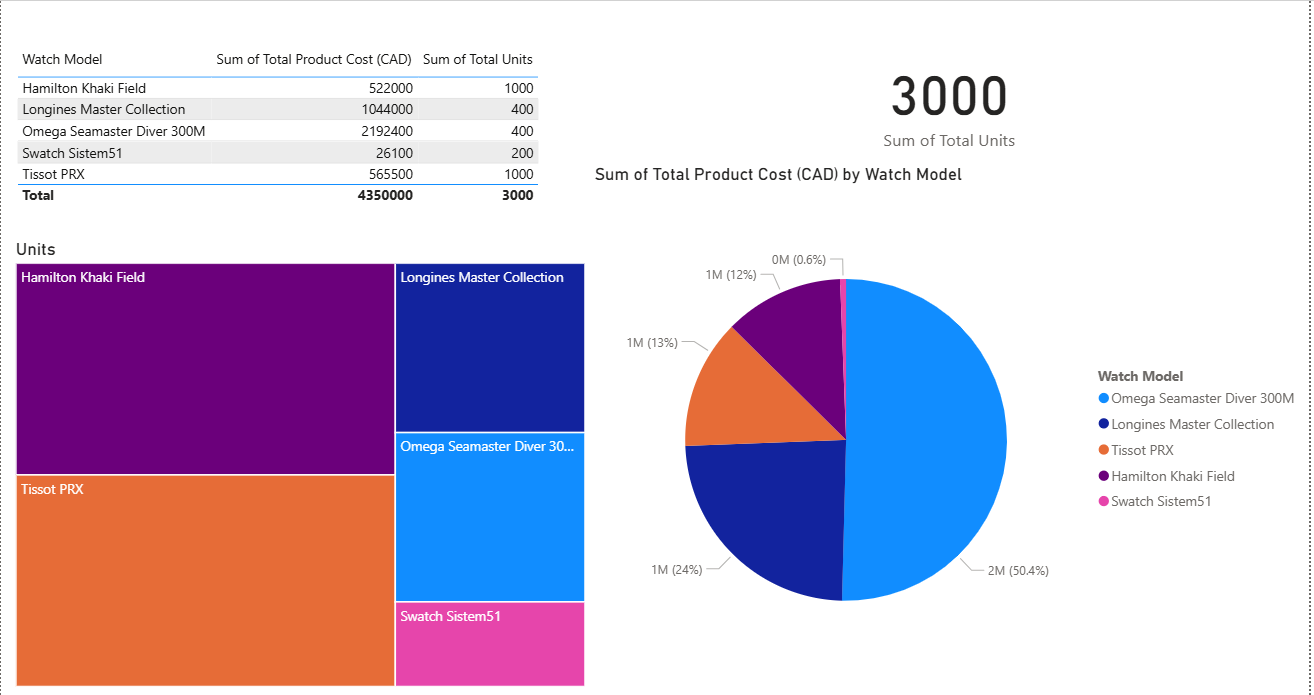

Layout of this report page (visuals, bound fields, positions):
{"tool":"powerbi","page":{"name":"Units and cost by watch","canvas":[1280,720],"ordinal":2},"visuals":[{"type":"treemap","title":"Units","fields":{"Group":["Table5.Watch Model"],"Values":["Sum(Table5.Total Units)"]},"box":[9.6,273.1,566.7,443.2],"z":0},{"type":"tableEx","fields":{"Values":["Table5.Watch Model","Sum(Table5.Total Product Cost (CAD))","Sum(Table5.Total Units)"]},"box":[9.6,81,566.7,192.1],"z":1000},{"type":"card","fields":{"Values":["Sum(Table5.Total Units)"]},"box":[576.3,81,703.9,112.5],"z":2000},{"type":"pieChart","fields":{"Category":["Table5.Watch Model"],"Y":["Sum(Table5.Total Product Cost (CAD))"]},"box":[576.3,199,703.9,521.4],"z":3000}]}

Visuals, with their boxes on the page's 1280x720 design canvas (x1, y1, x2, y2). These are canvas units, not pixel positions in the 1314x695 screenshot, which may show the page scaled, cropped or inside an application window:
"Units" treemap: region(10, 273, 576, 716)
tableEx - Table5.Watch Model x Sum(Table5.Total Product Cost (CAD)): region(10, 81, 576, 273)
card - Sum(Table5.Total Units): region(576, 81, 1280, 194)
pieChart - Table5.Watch Model x Sum(Table5.Total Product Cost (CAD)): region(576, 199, 1280, 720)
